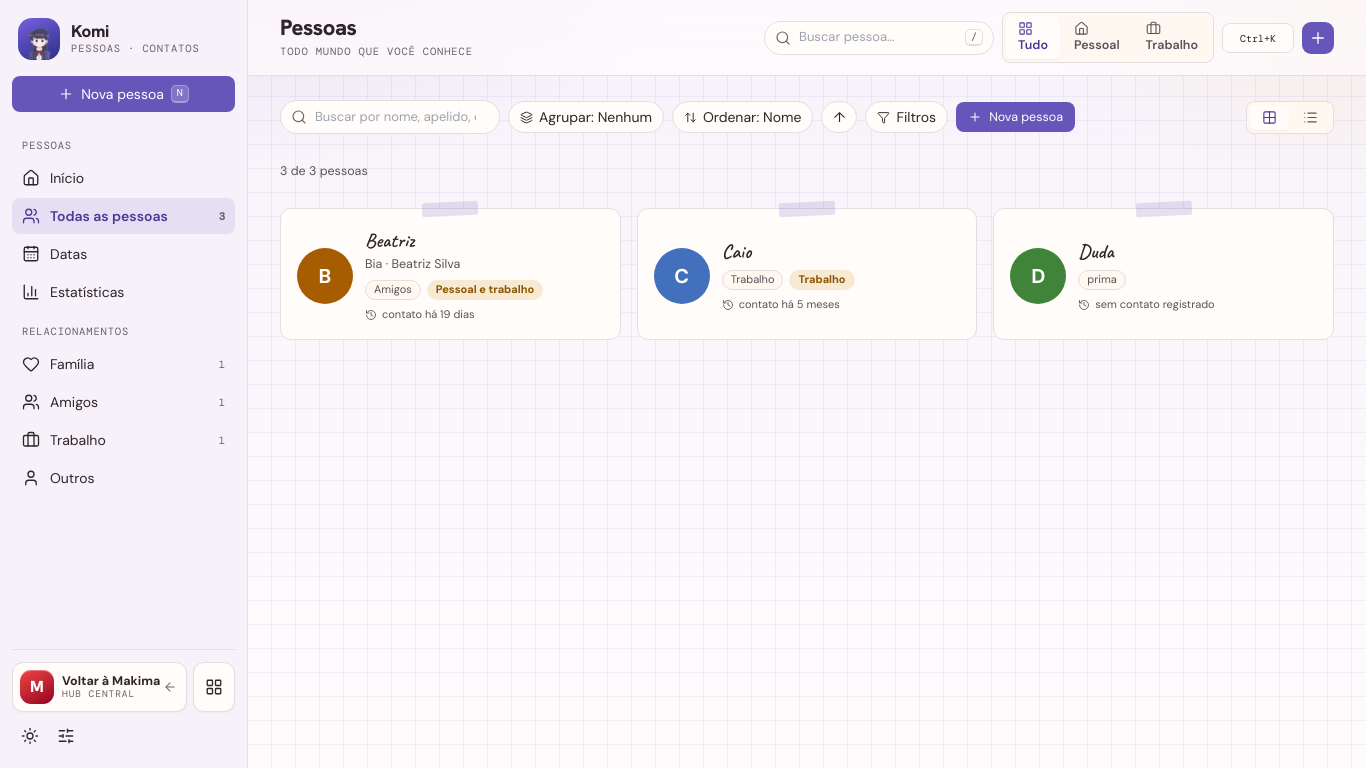
Test: espaço: Tudo · Pessoal · Trabalho › Trabalho esconde quem é só pessoal e mantém quem é "ambos"
Check: the text "Duda" is shown, box [1078,239,1114,264]
Click the button "Trabalho". click: {"x": 1172, "y": 38}
box: [1134,16,1210,59]
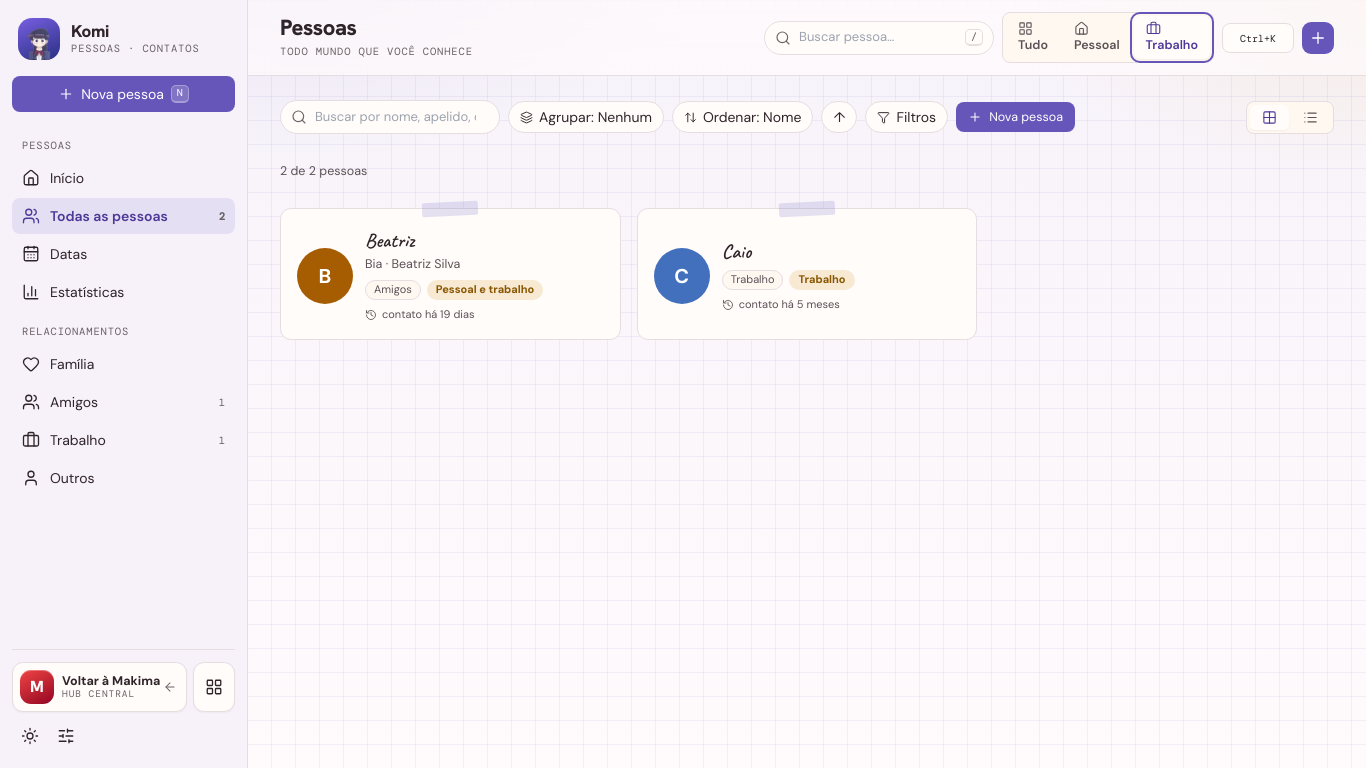
Check: the text "Caio" is shown, box [722,239,751,264]
Check: the button "Duda" is gone
